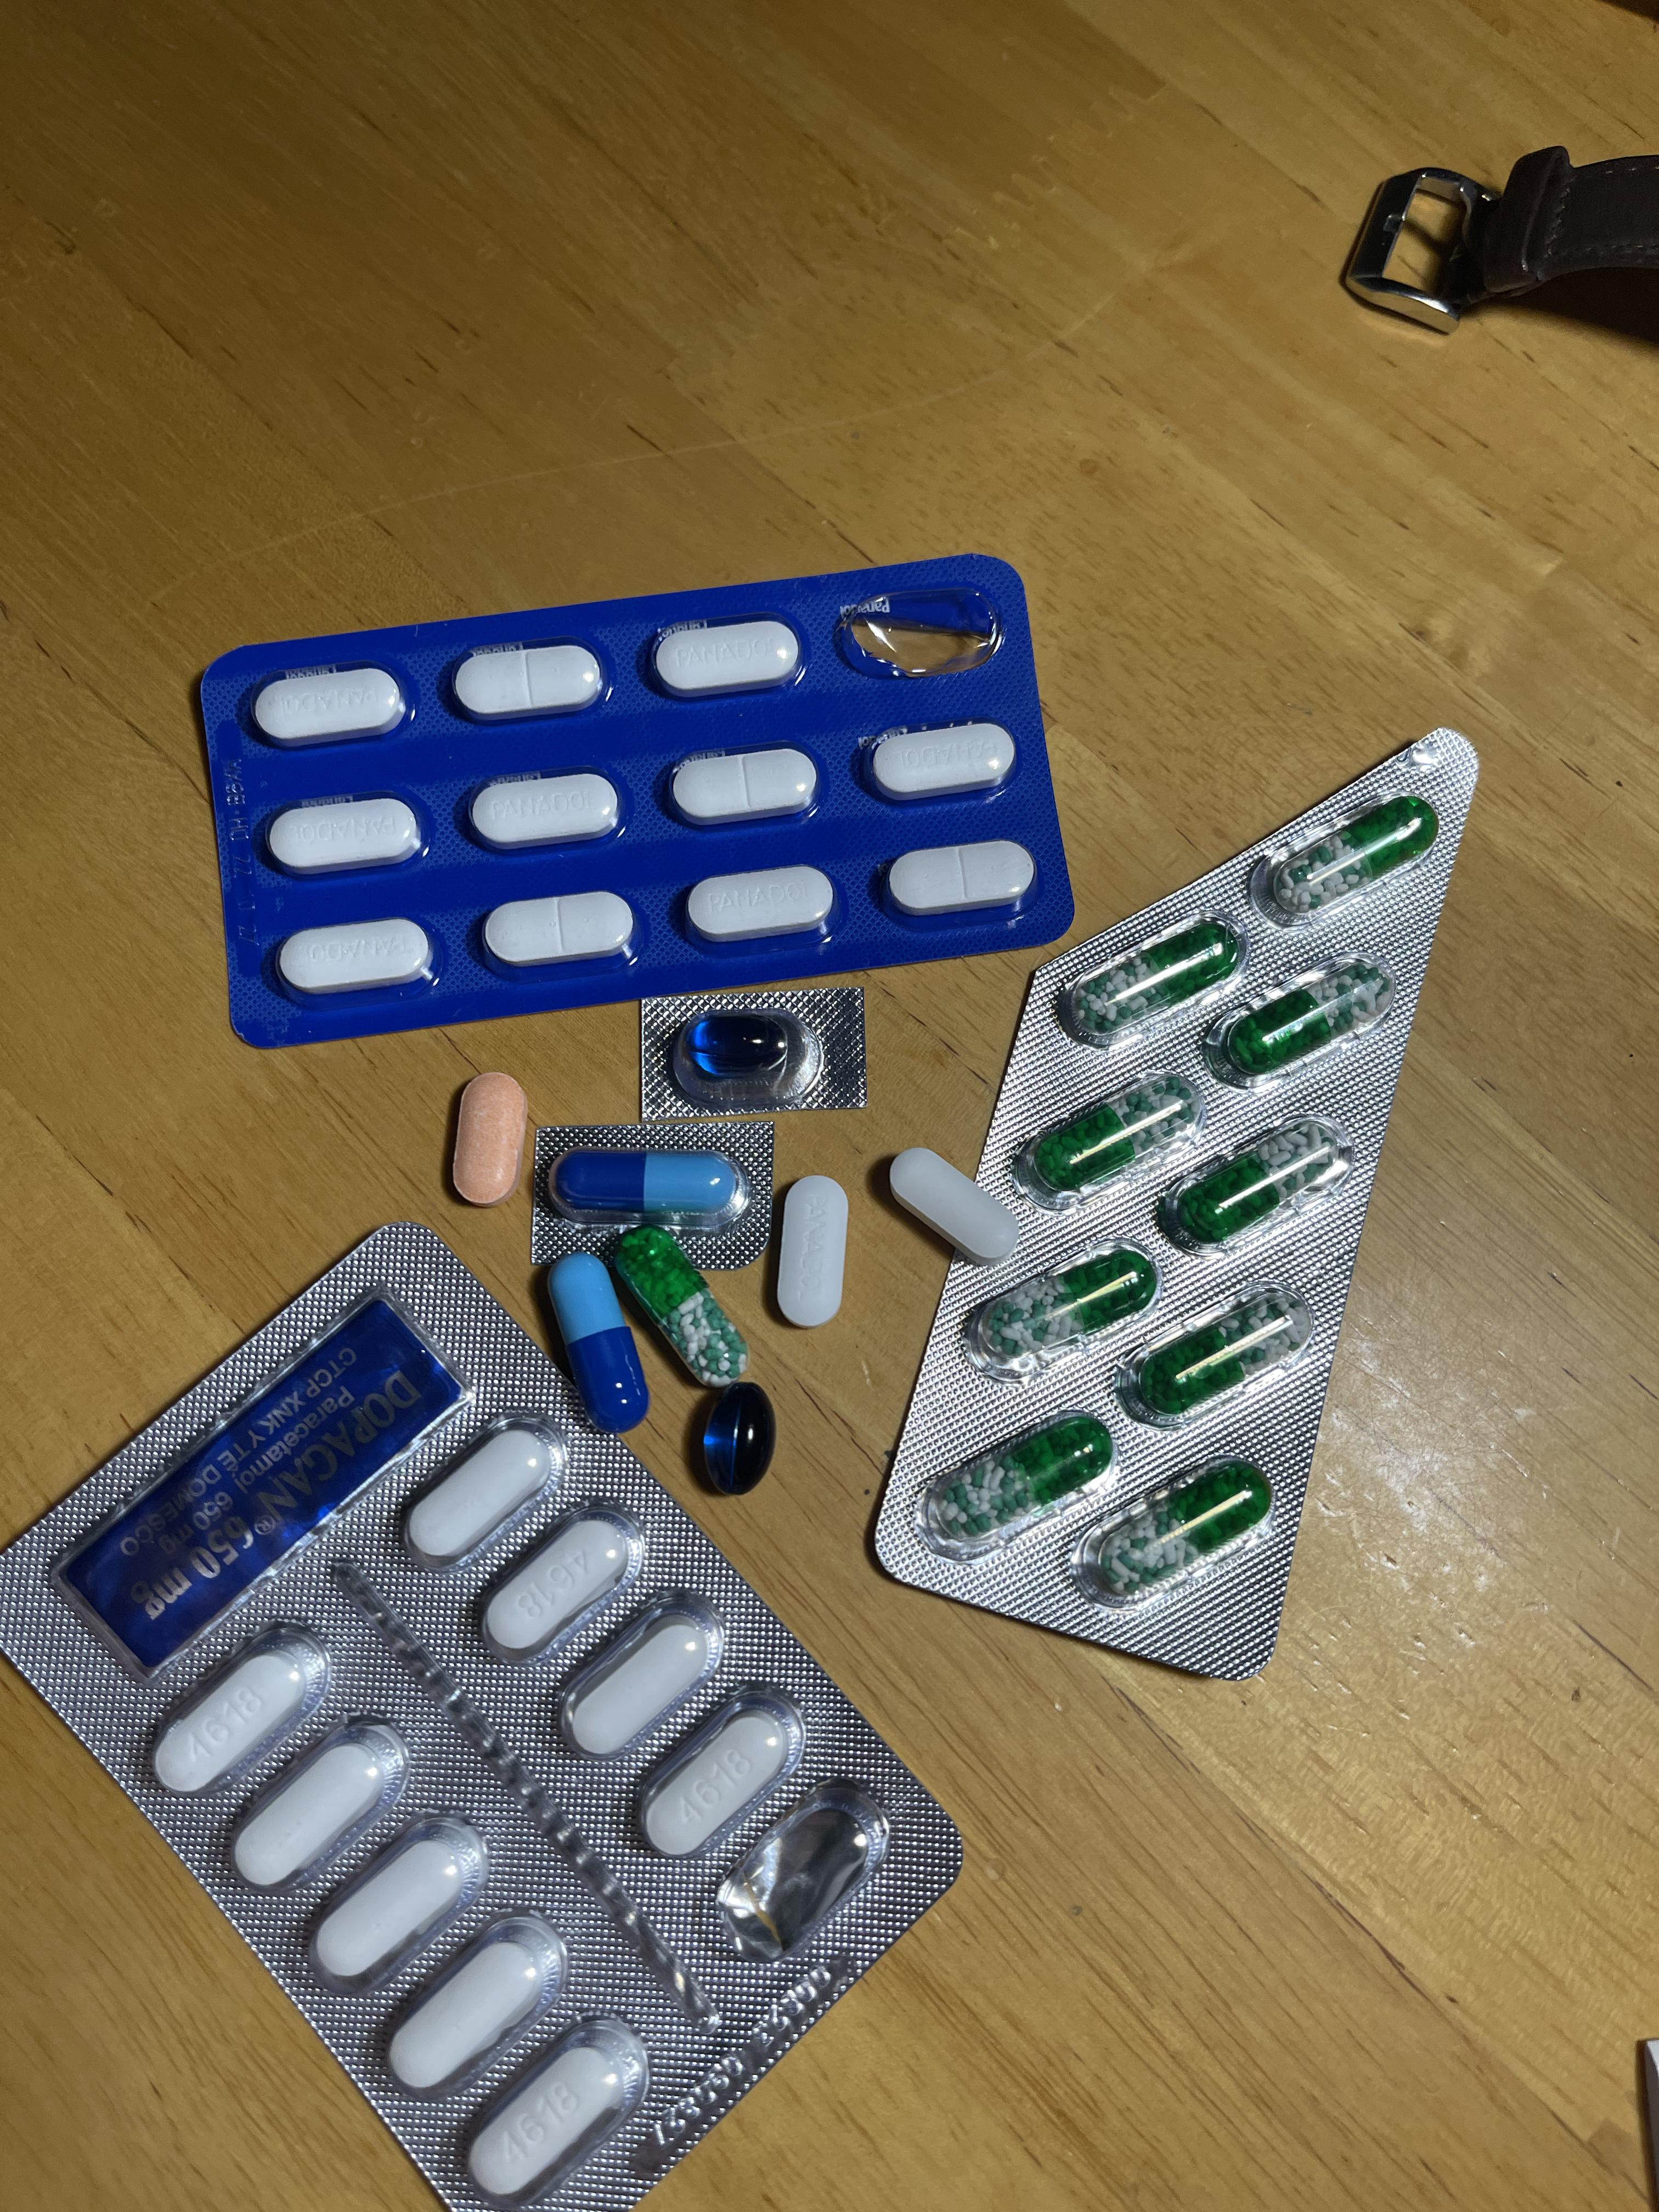Lincomyxin_500mg: (702, 1381, 777, 1494), (690, 1012, 791, 1075)
Loratadine_10mg: (451, 1076, 526, 1198)
Paracetamol_350mg: (267, 794, 423, 874), (279, 918, 434, 996), (653, 617, 805, 697), (253, 665, 404, 745), (669, 745, 821, 824), (868, 721, 1019, 799), (885, 838, 1037, 916), (685, 866, 838, 942), (484, 892, 634, 968), (471, 772, 620, 848), (455, 643, 599, 719), (775, 1177, 847, 1329)
Paracetamol_500mg: (375, 1911, 570, 2102), (237, 1731, 401, 1893), (472, 2045, 626, 2198), (157, 1648, 312, 1792), (643, 1710, 789, 1857), (570, 1613, 716, 1756), (315, 1839, 460, 1972), (486, 1517, 626, 1651), (408, 1430, 552, 1559), (889, 1146, 1012, 1270)
Paracetamol_650mg: (1122, 1282, 1312, 1426), (1164, 1111, 1356, 1251), (1082, 1454, 1260, 1604), (1209, 956, 1399, 1092), (929, 1418, 1117, 1554), (1063, 911, 1237, 1054), (1255, 796, 1434, 927), (608, 1228, 751, 1385), (1037, 1062, 1204, 1191), (972, 1247, 1147, 1371)
pill: (549, 1146, 753, 1228), (547, 1254, 647, 1421)
